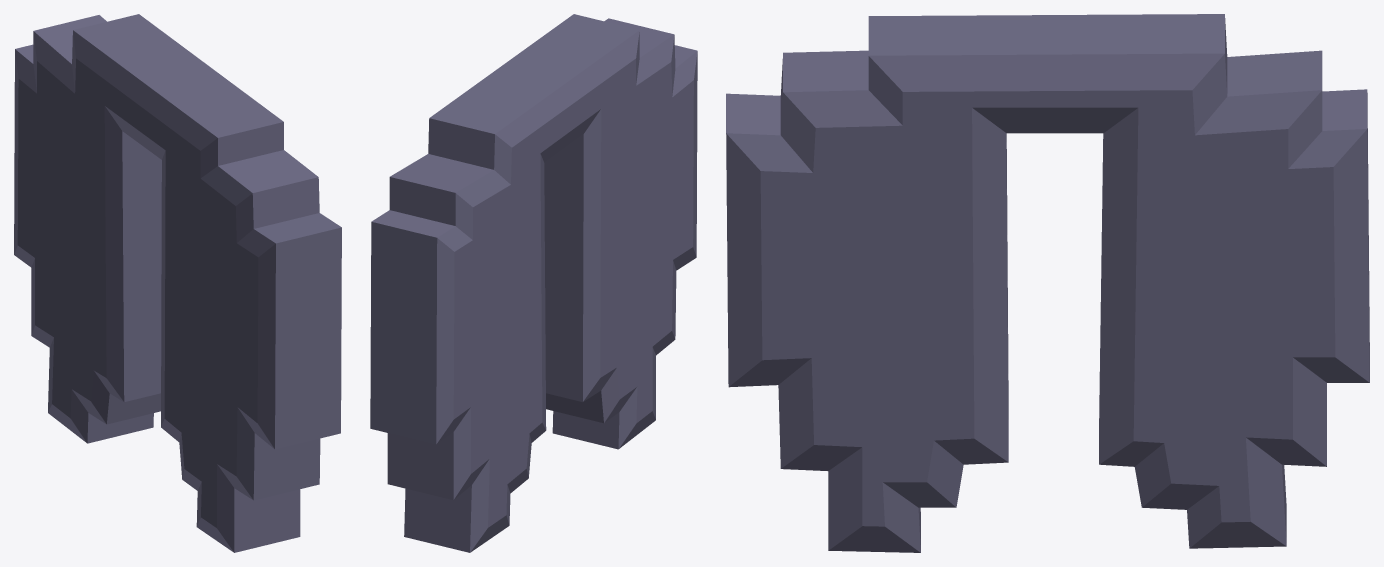
The model's file is wings.fbx.
3 renders of one model, left to right at view 1: azimuth 30°, elevation 25°; view 2: azimuth 150°, elevation 25°; view 3: azimuth 270°, elevation 25°, orthographic. The views are drawn at different scales.
Parts seen in each view (by area): view 1: Plane; view 2: Plane; view 3: Plane.
Part boxes in pixels (bbox=[...]): Plane: bbox=[14, 14, 341, 552]; Plane: bbox=[370, 14, 697, 552]; Plane: bbox=[726, 14, 1369, 552].
Size of the model in its own units: 79.97 by 379 by 443.
